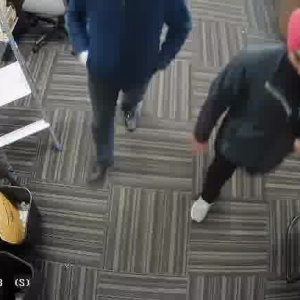person: (191, 22, 300, 225), (74, 0, 176, 189)
